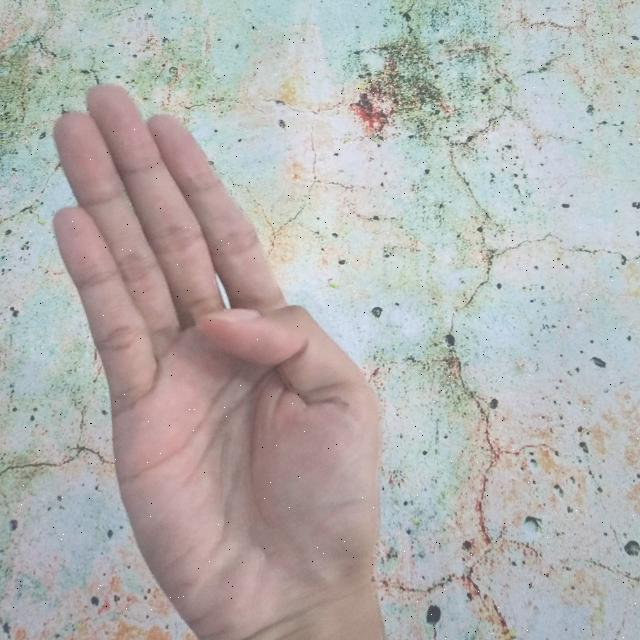B: (44, 82, 392, 640)
